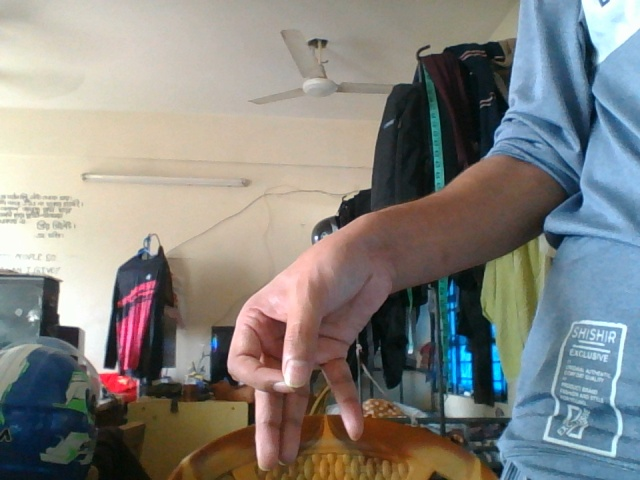pa: (223, 217, 396, 467)
